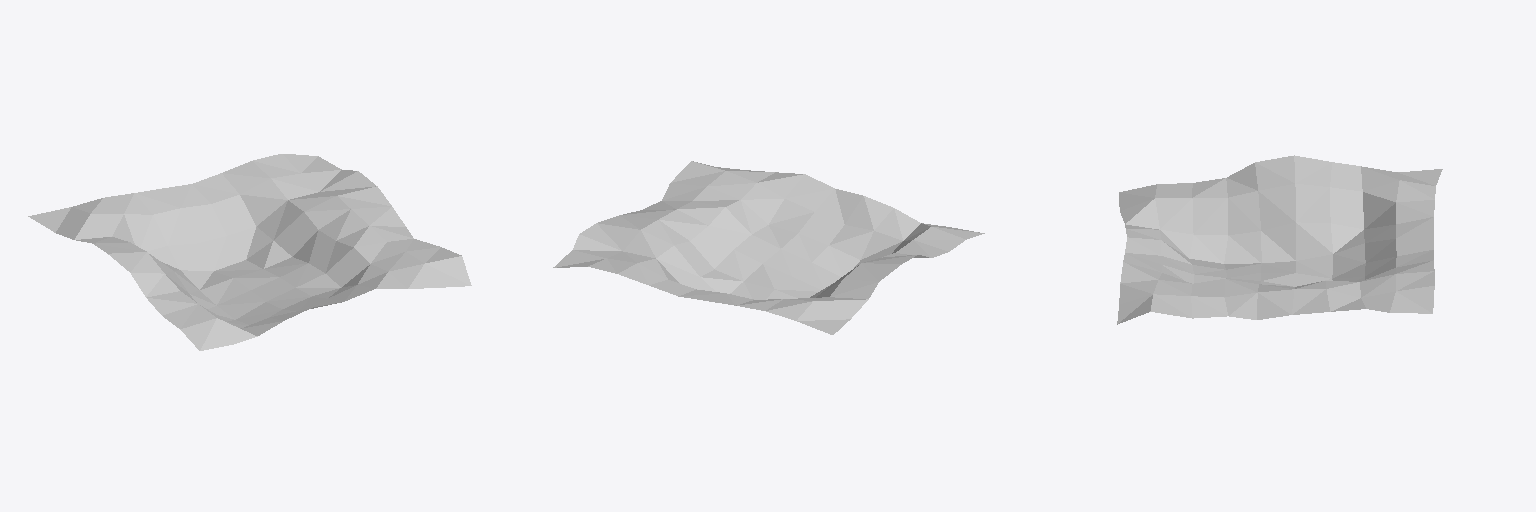
The model's file is terrain.obj.
3 renders of one model, left to right at view 1: azimuth 30°, elevation 25°; view 2: azimuth 150°, elevation 25°; view 3: azimuth 270°, elevation 25°, orthographic.
Parts seen in each view (by area): view 1: Grid; view 2: Grid; view 3: Grid.
Part boxes in pixels (x1,y1,x2,y2): Grid: (28,154,471,350); Grid: (553,161,984,334); Grid: (1117,155,1442,324).
Size of the model in its own units: 5.51 by 1.14 by 5.31.